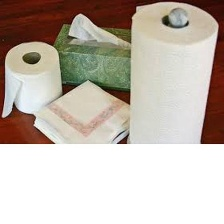book: (47, 19, 144, 93)
tissue: (123, 0, 223, 144), (0, 34, 68, 123), (63, 8, 136, 52)
